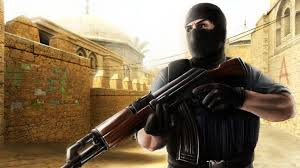gun: (56, 56, 250, 165)
